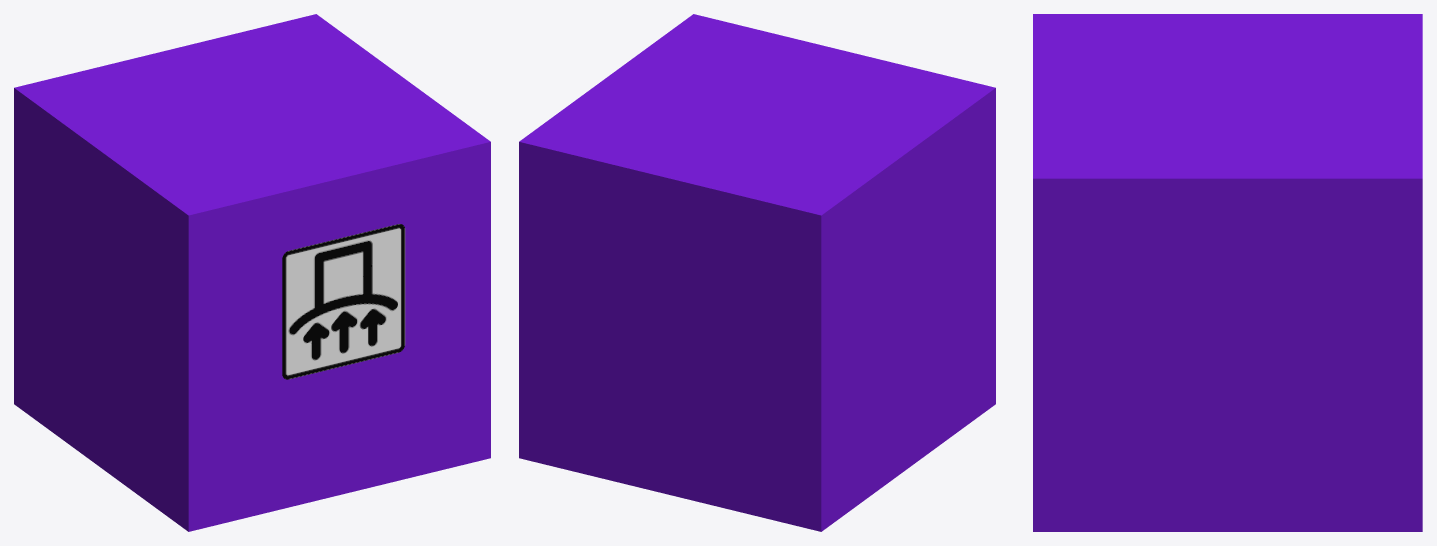
Rendered from extractor.fbx.
3 views of the same model, side by side, from view 1: azimuth 30°, elevation 25°; view 2: azimuth 150°, elevation 25°; view 3: azimuth 270°, elevation 25° (orthographic). The views are drawn at different scales.
Parts seen in each view (by area): view 1: Cube, Plane; view 2: Cube; view 3: Cube.
Part boxes in pixels (x1=…): Cube: x1=14, y1=14, x2=490, y2=531; Plane: x1=282, y1=224, x2=405, y2=379; Cube: x1=519, y1=14, x2=995, y2=531; Cube: x1=1033, y1=14, x2=1422, y2=531.
Size of the model in its own units: 773 by 773 by 790.
